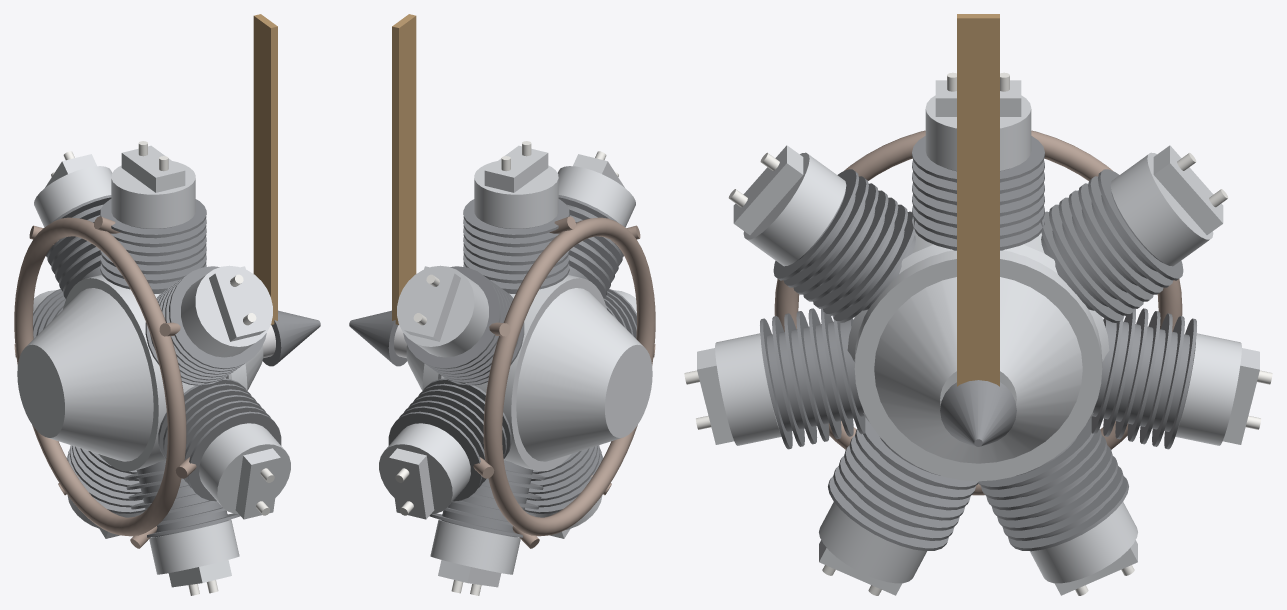
The model's file is combustion_7_radial_90p0_8p6_8p6_sohc_2_no_correa_nafta.glb.
3 views of the same model, side by side, from view 1: azimuth 30°, elevation 25°; view 2: azimuth 150°, elevation 25°; view 3: azimuth 270°, elevation 25° (orthographic). The views are drawn at different scales.
Parts seen in each view (by area): view 1: bloque, multiple_escape, helice, culata_2, culata_3, culata_1, cilindro_1, cilindro_3, culata_4, cilindro_2, cilindro_4, culata_7 (+5 smaller); view 2: bloque, multiple_escape, helice, culata_7, culata_6, culata_1, cilindro_1, cilindro_6, culata_5, cilindro_7, cilindro_5, culata_2 (+5 smaller); view 3: tapa_delantera, helice, bloque, cilindro_2, cilindro_7, cilindro_3, cilindro_6, cilindro_4, cilindro_5, culata_2, culata_7, cilindro_1 (+6 smaller).
Boxes of the visible parts, x1,y1,x2,y2 form: bloque: (17,275,247,471); multiple_escape: (14,216,196,548); helice: (253,14,320,366); culata_2: (181,265,272,357); culata_3: (199,423,290,519); culata_1: (111,145,195,228); cilindro_1: (100,199,206,293); cilindro_3: (158,378,281,501); culata_4: (149,519,239,587); cilindro_2: (145,266,266,385); cilindro_4: (124,460,240,537); culata_7: (34,154,111,227); bloque: (422,275,652,471); multiple_escape: (473,216,655,548); helice: (349,14,416,366); culata_7: (397,265,488,357); culata_6: (379,423,470,519); culata_1: (474,145,558,228); cilindro_1: (463,199,569,293); cilindro_6: (388,378,511,501); culata_5: (430,519,520,587); cilindro_7: (403,266,524,385); cilindro_5: (429,460,545,537); culata_2: (558,154,635,227); tapa_delantera: (847,244,1109,463); helice: (940,14,1016,446); bloque: (854,232,1102,481); cilindro_2: (773,169,916,322); cilindro_7: (1040,169,1183,322); cilindro_3: (760,308,865,449); cilindro_6: (1091,308,1196,449); cilindro_4: (828,417,978,551); cilindro_5: (978,417,1128,551); culata_2: (733,145,846,266); culata_7: (1110,145,1223,266); cilindro_1: (912,136,1044,250).
Bounding box in the file's own units: 40.42 × 71.97 × 59.27.
